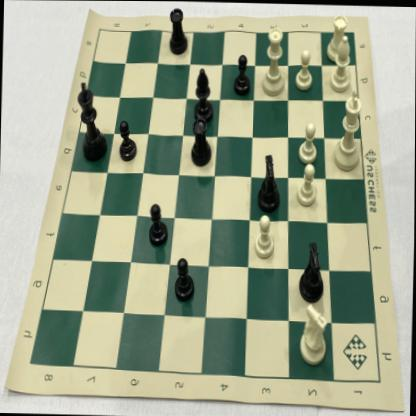black-bishop: (190, 61, 219, 127)
black-king: (72, 78, 110, 164)
black-knight: (251, 146, 285, 215), (297, 237, 329, 304)
black-pawn: (172, 254, 198, 303), (145, 201, 169, 249), (116, 116, 139, 164), (231, 49, 253, 96)
black-rook: (188, 116, 215, 170), (164, 2, 190, 58)
white-bishop: (325, 32, 354, 95)
white-king: (331, 85, 365, 174)
white-knight: (293, 299, 331, 369)
white-pawn: (293, 160, 321, 207), (250, 212, 276, 261), (292, 44, 316, 91), (297, 119, 320, 165)
white-queen: (258, 22, 289, 99)
white-rook: (322, 10, 350, 66)
